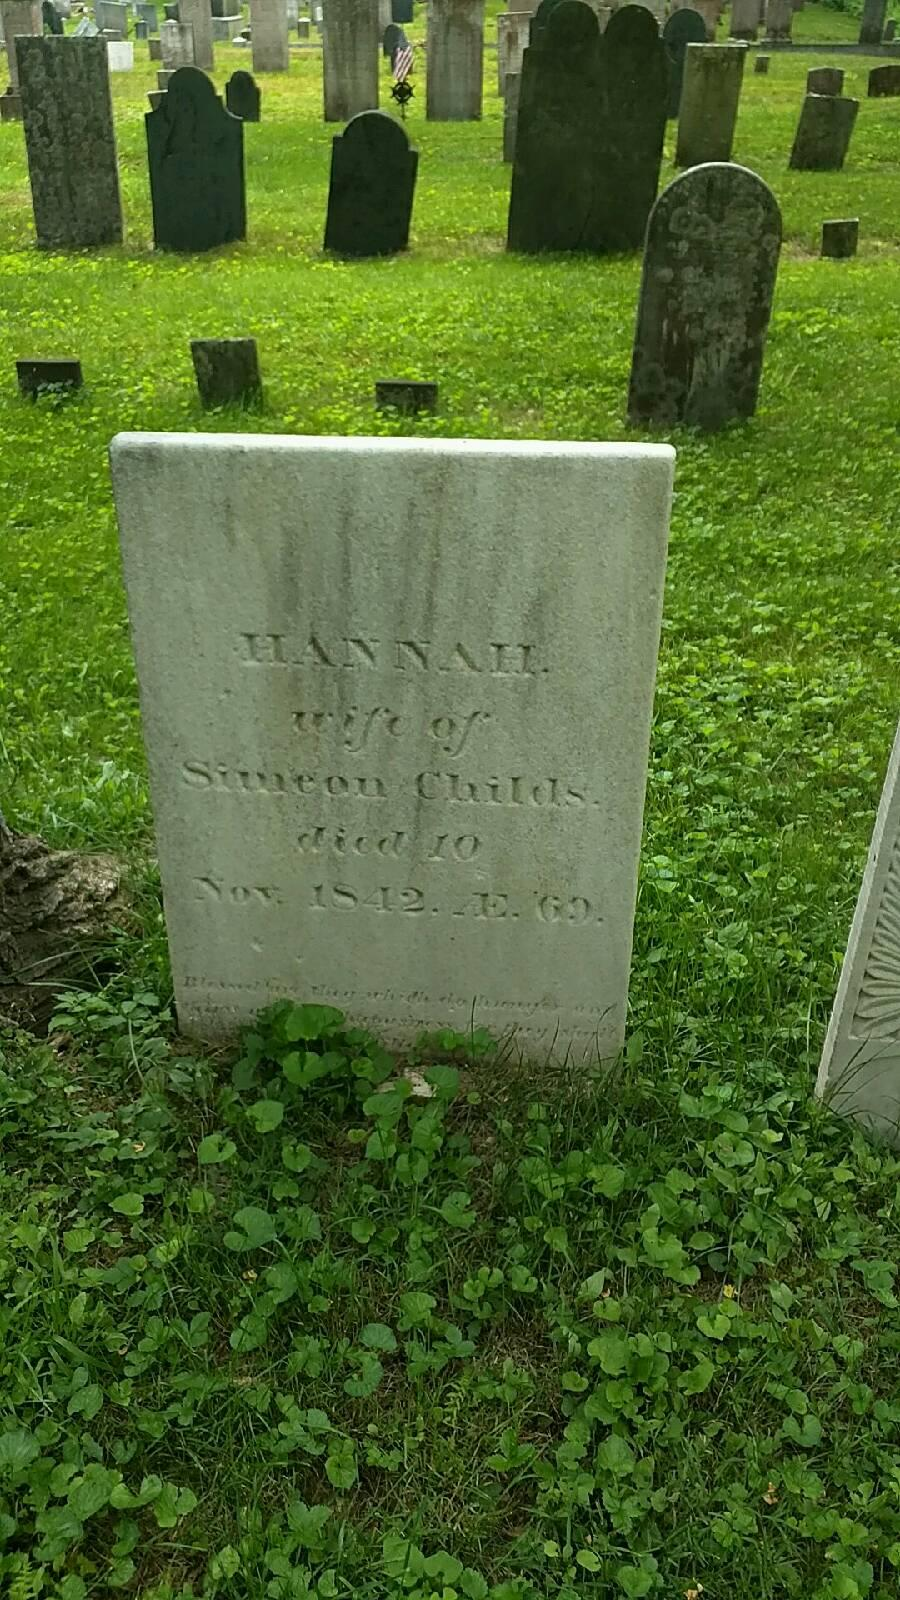upright: (107, 422, 674, 1076)
